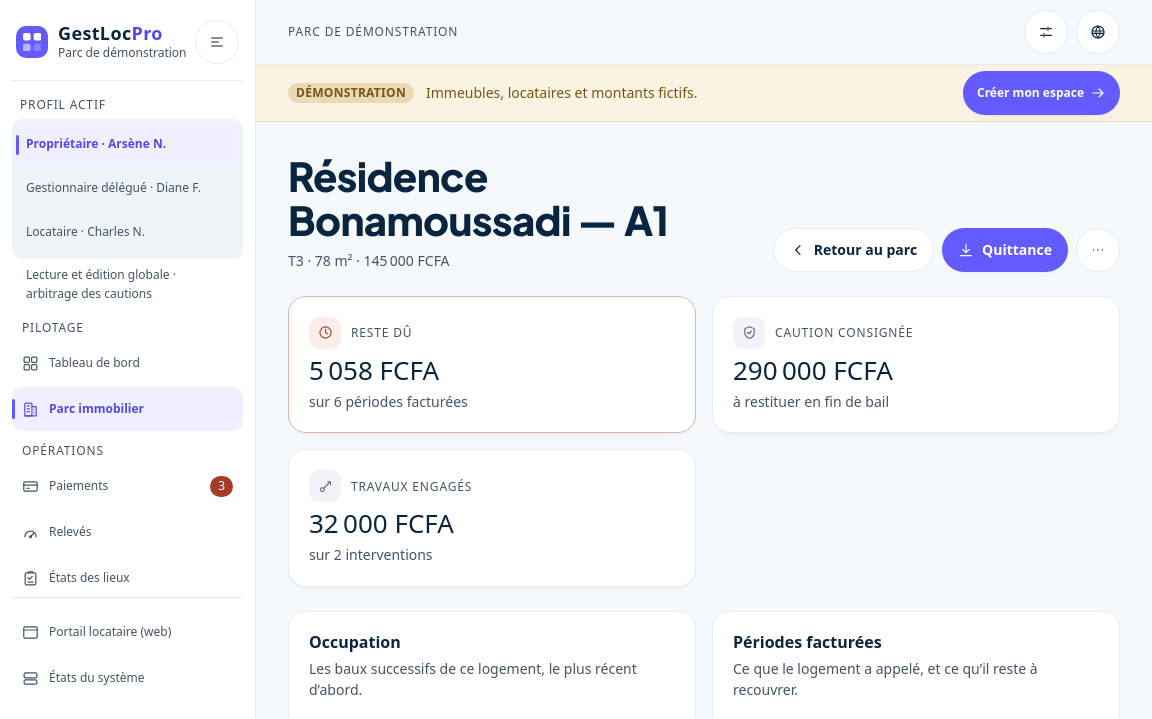
Test: le bail et ses sûretés › NOMME L’ABSENCE DE CONGÉ, au lieu de laisser la section muette
Expected: the heading "Résidence Bonamoussadi — A1" is shown, [288,150,668,245]
Step 1. Click the button named "Autres actions" → click(1098, 250), box [1076,228,1120,272]
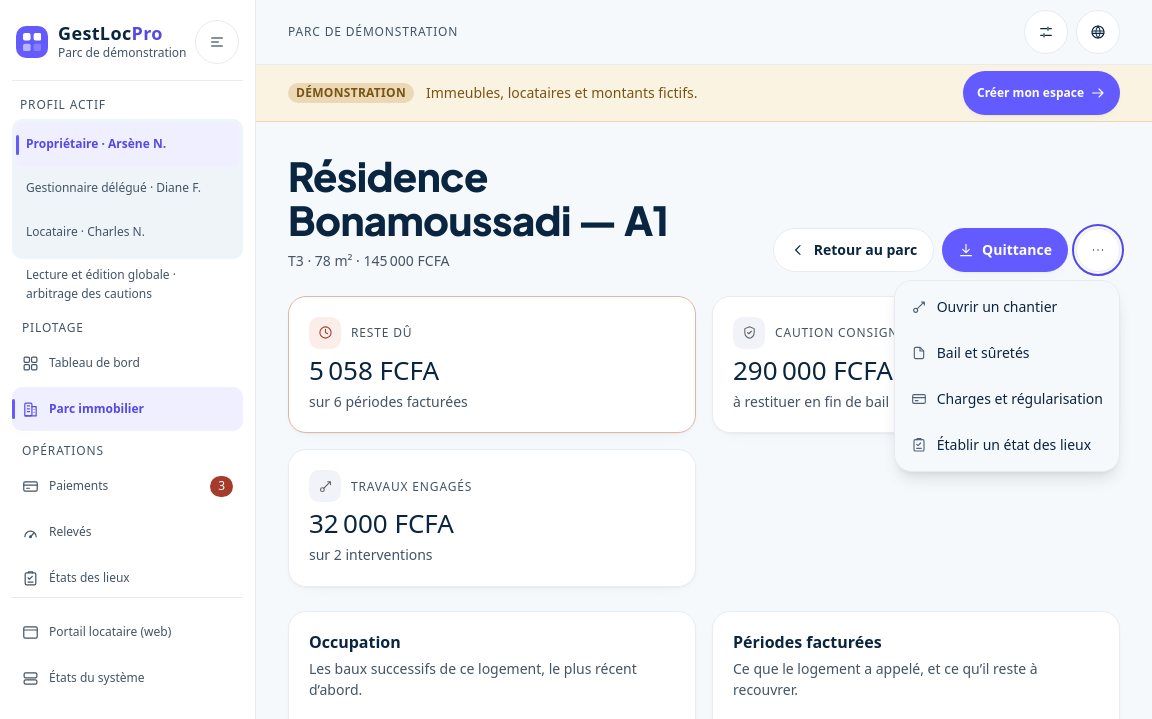
Step 2. Click the menu item "Bail et sûretés" → click(1007, 353), box [899,331,1115,375]
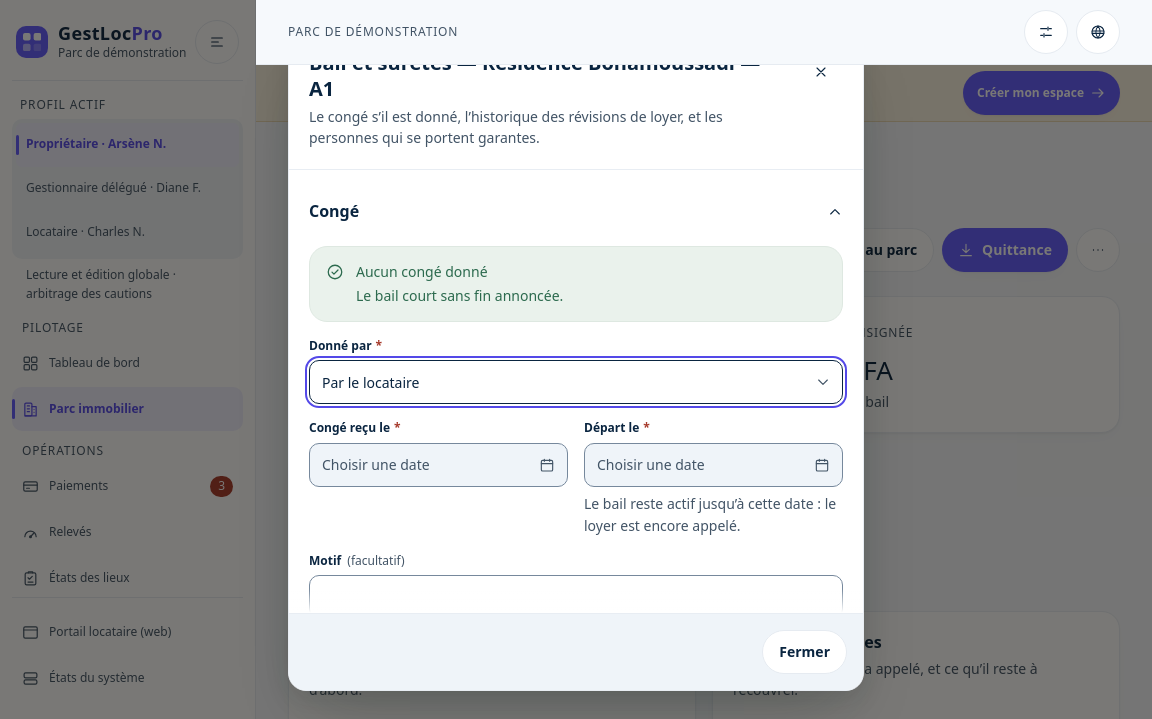
Expected: the text "Aucun congé donné" is shown, [356,262,488,281]
Expected: the text "Le bail court sans fin annoncée." is shown, [356,285,563,307]
